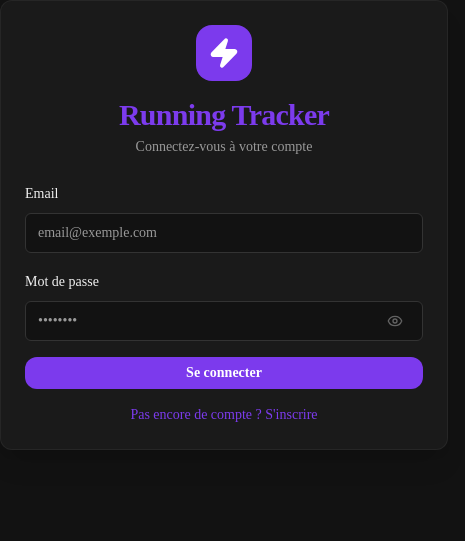
LoginCard › inline error handling › shows generic error for unknown errors
The image size is (465, 541).
In the field with test id "login-email": (224, 233) [25, 213, 423, 253], type "test@example.com"
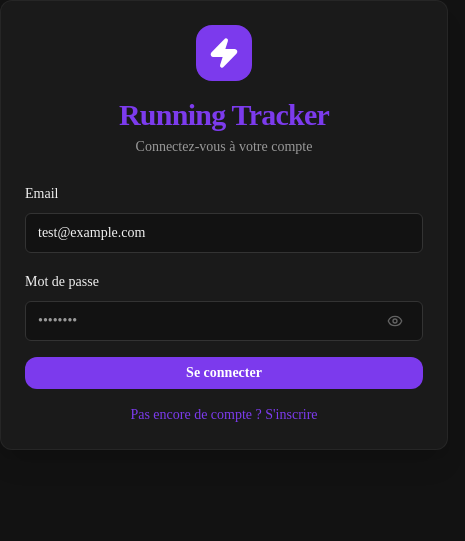
In the password field with test id "login-password": (224, 321) [25, 301, 423, 341], type "password123"
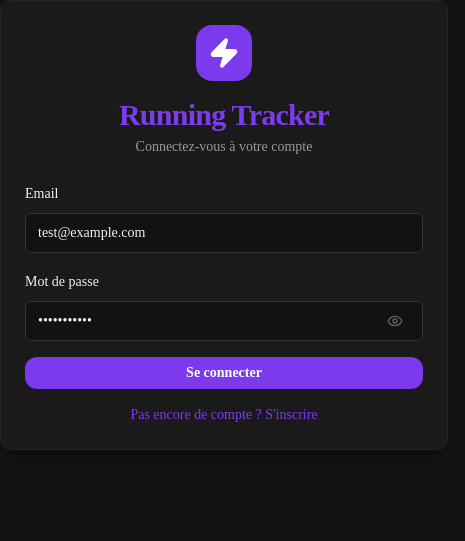
Click the button with test id "login-submit": (224, 373) [25, 357, 423, 389]
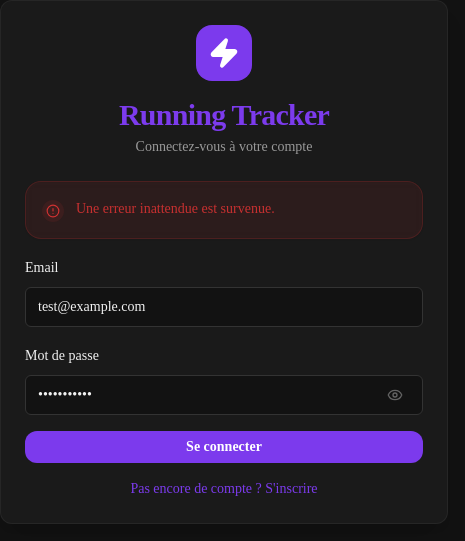
Expected: the text "Une erreur inattendue est survenue." is shown, [76, 201, 275, 216]
